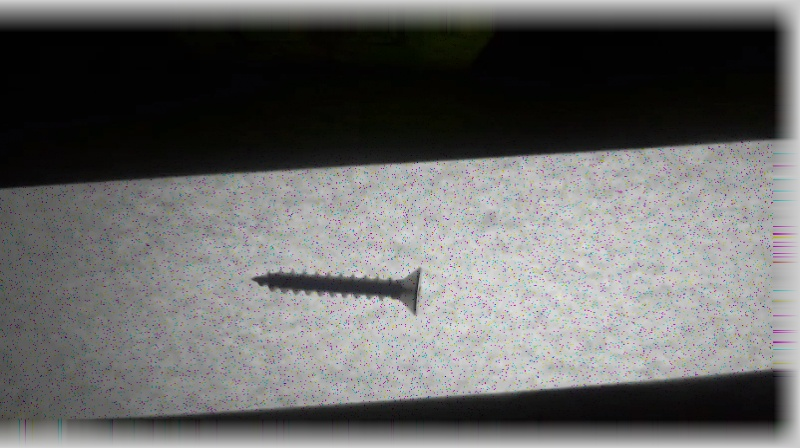S001: (248, 261, 425, 315)
